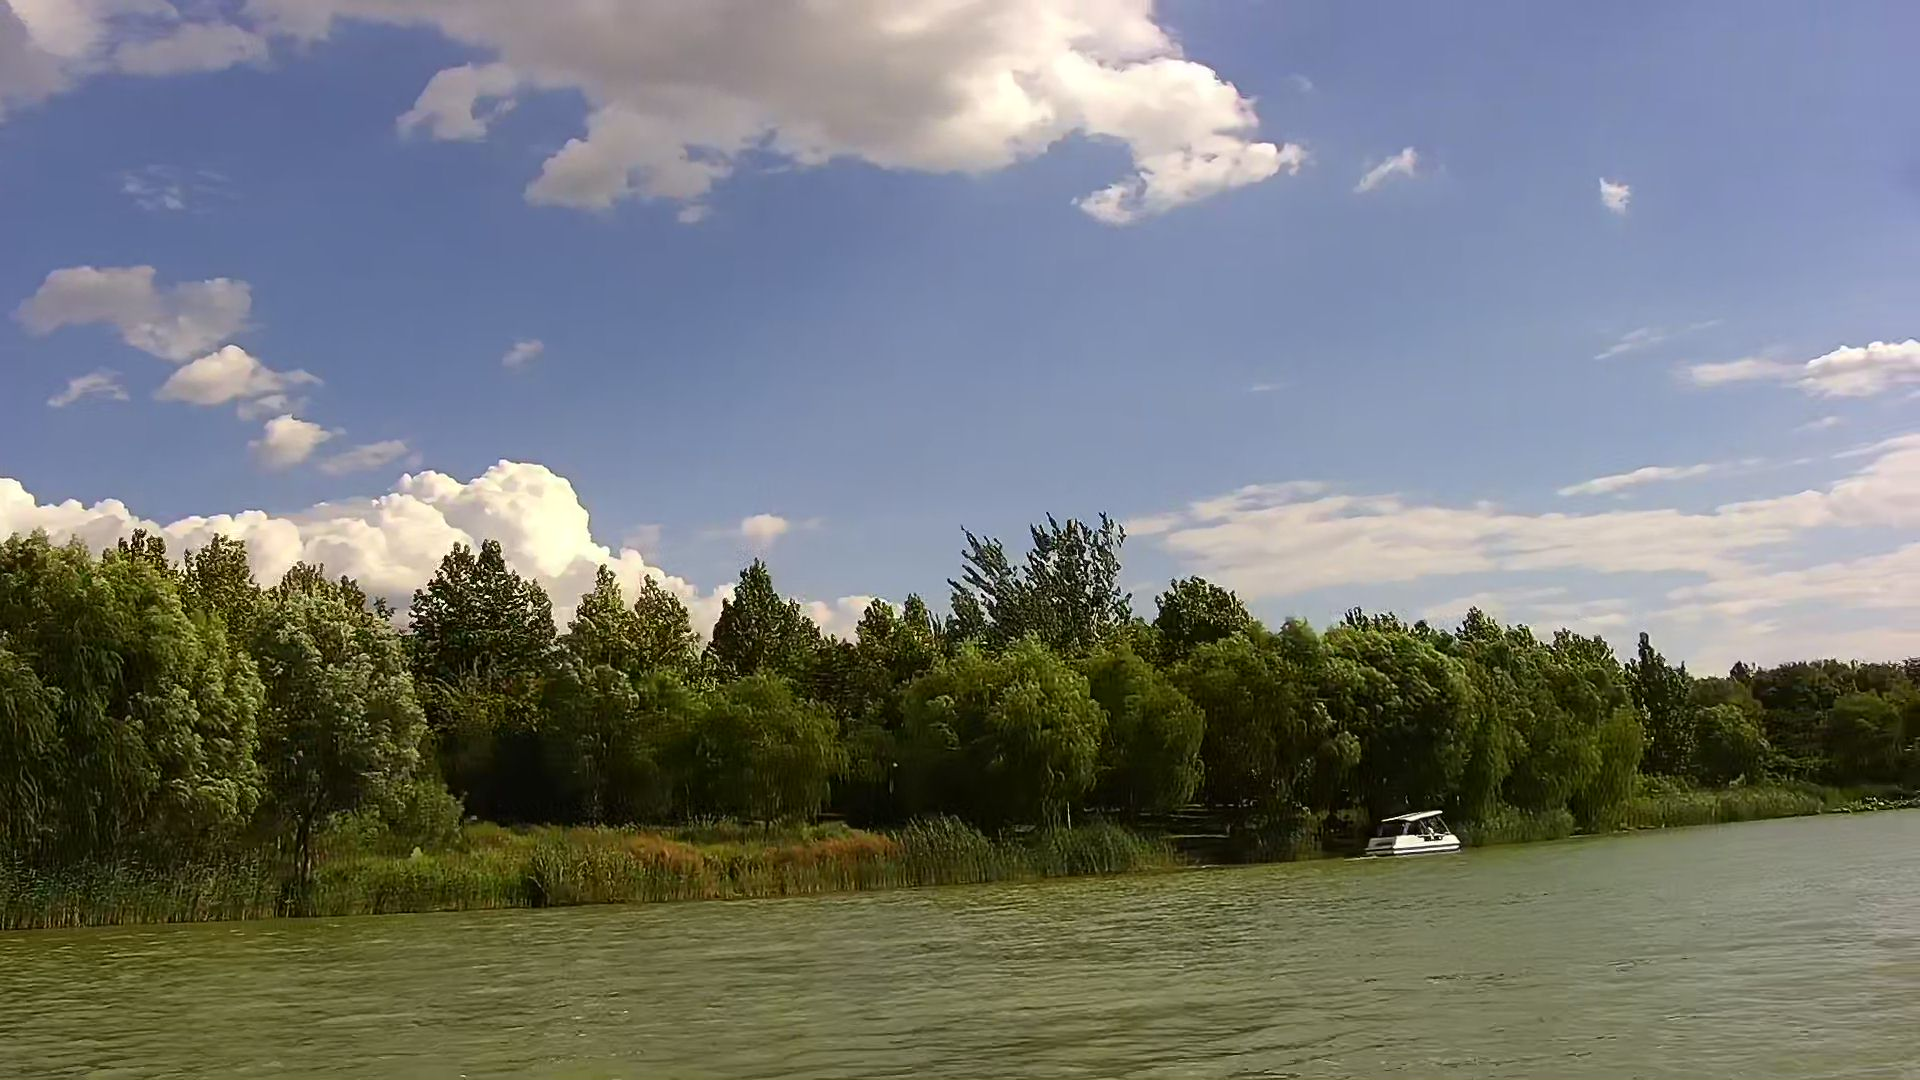boat: (1367, 807, 1458, 860)
